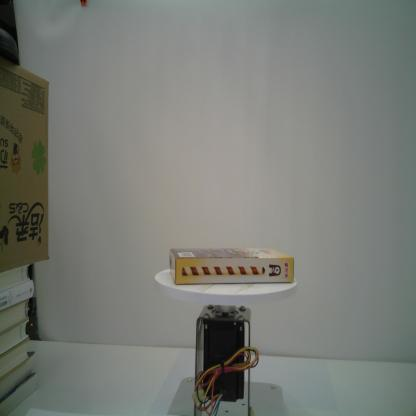Dessert: (168, 244, 296, 286)
